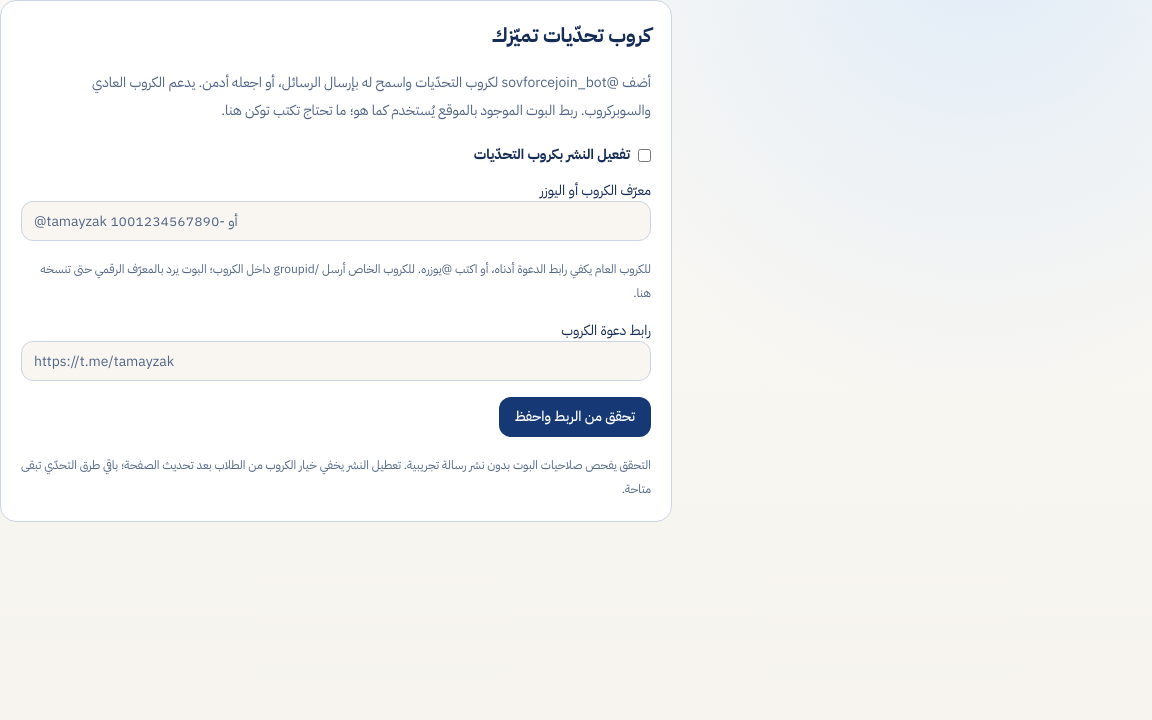
Test: saves channel settings through the admin endpoint without collecting a bot token
This screenshot has width=1152, height=720.
In the field labelled "معرّف الكروب أو اليوزر": (336, 221) [21, 201, 651, 241], type "-1001234567890"
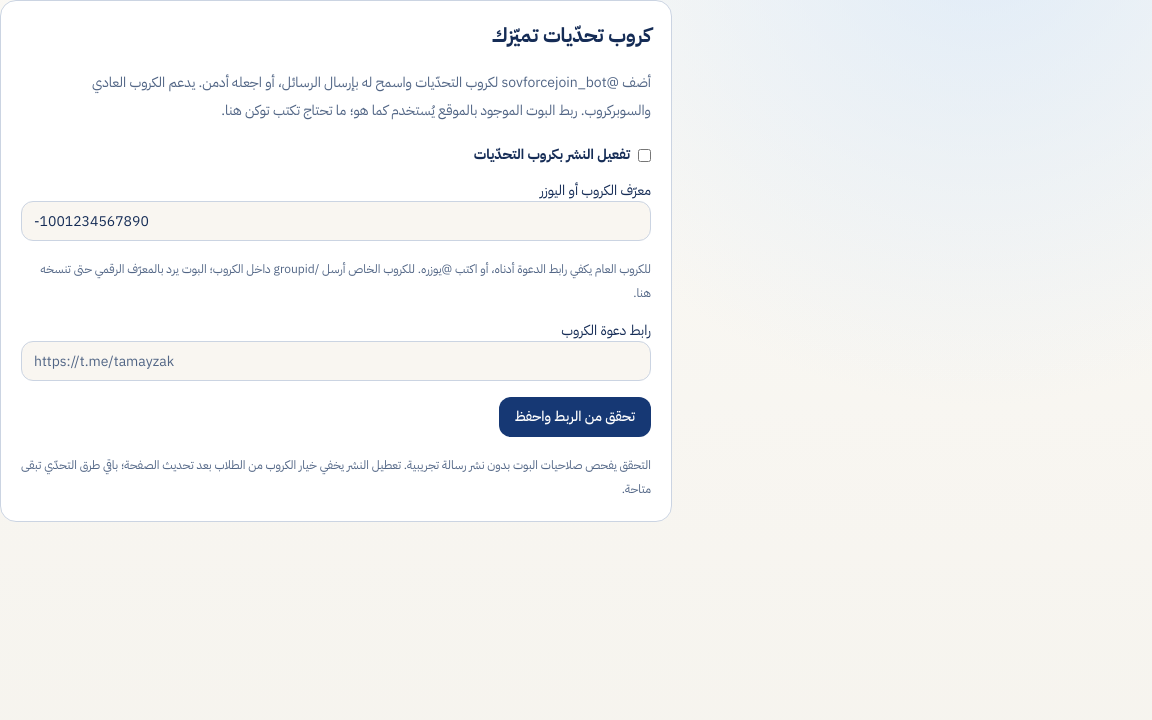
In the field labelled "رابط دعوة الكروب": (336, 361) [21, 341, 651, 381], type "https://t.me/+Example"
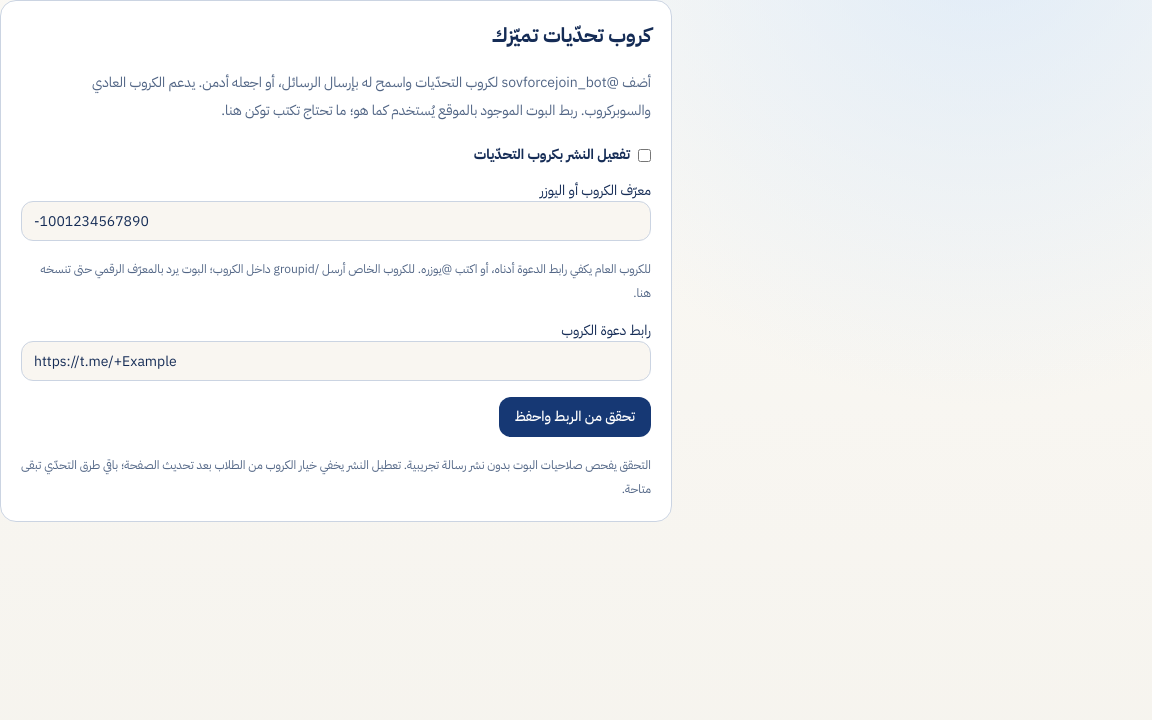
Click the checkbox: (644, 155) [638, 148, 651, 162]
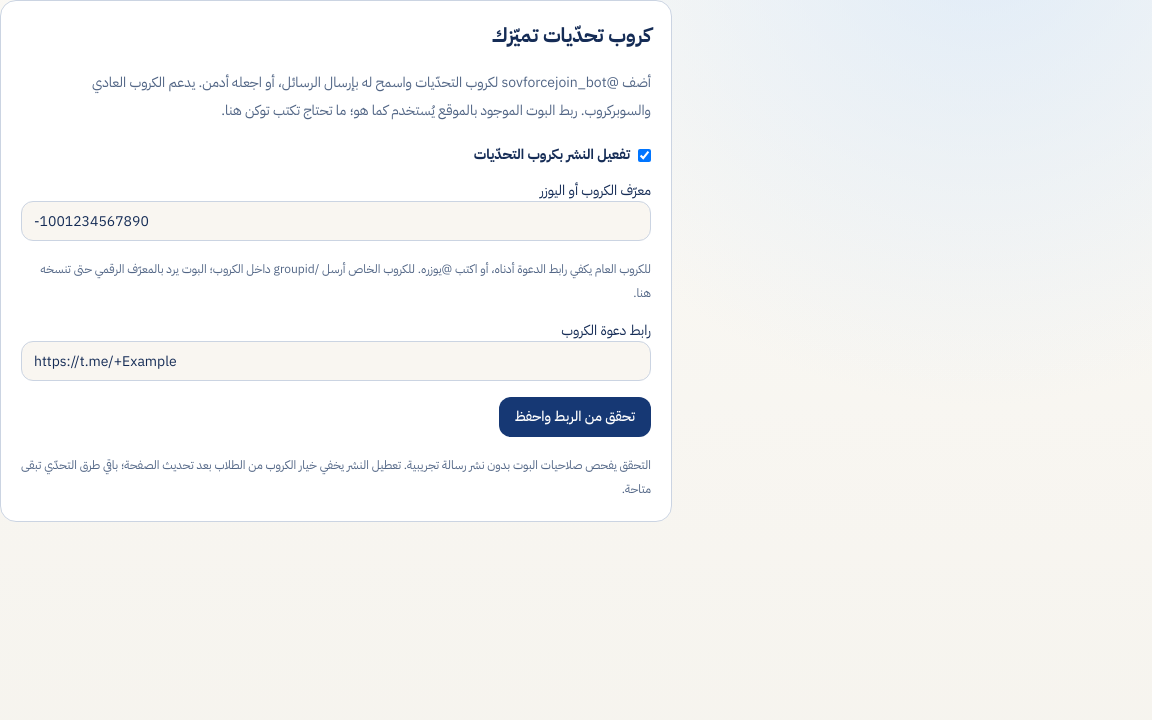
Click the button "تحقق من الربط واحفظ": (575, 417) [499, 397, 651, 437]
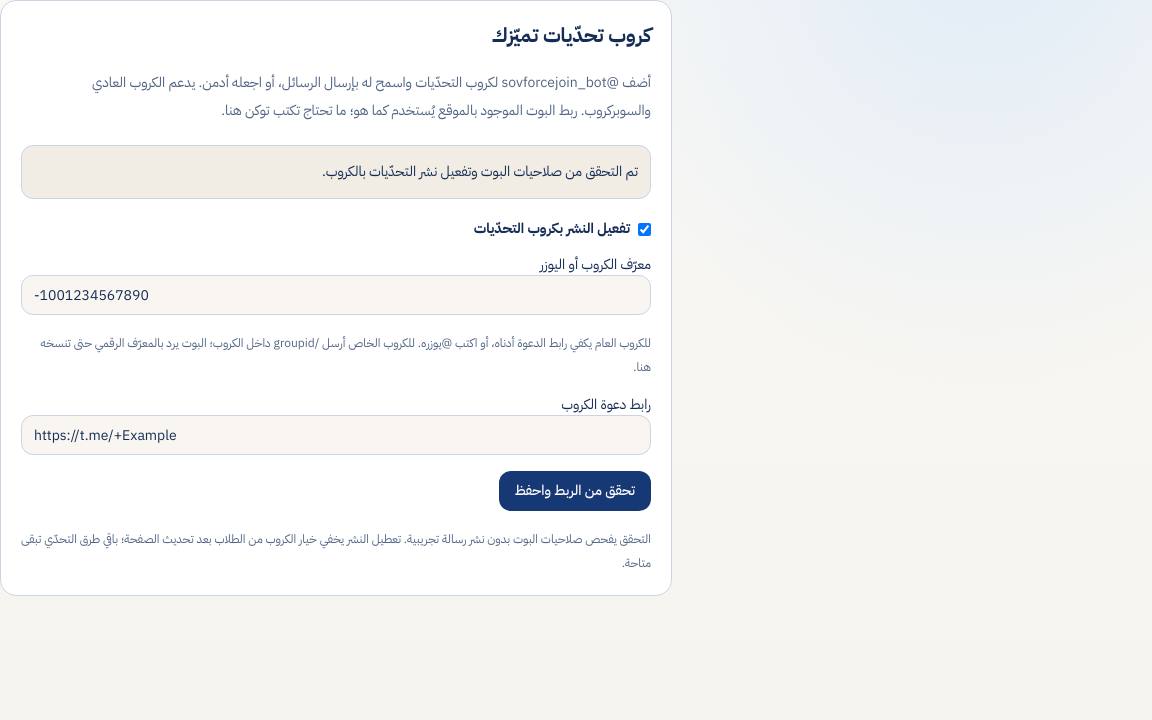
Expected: the message shows "تم التحقق", [322, 161, 638, 182]
